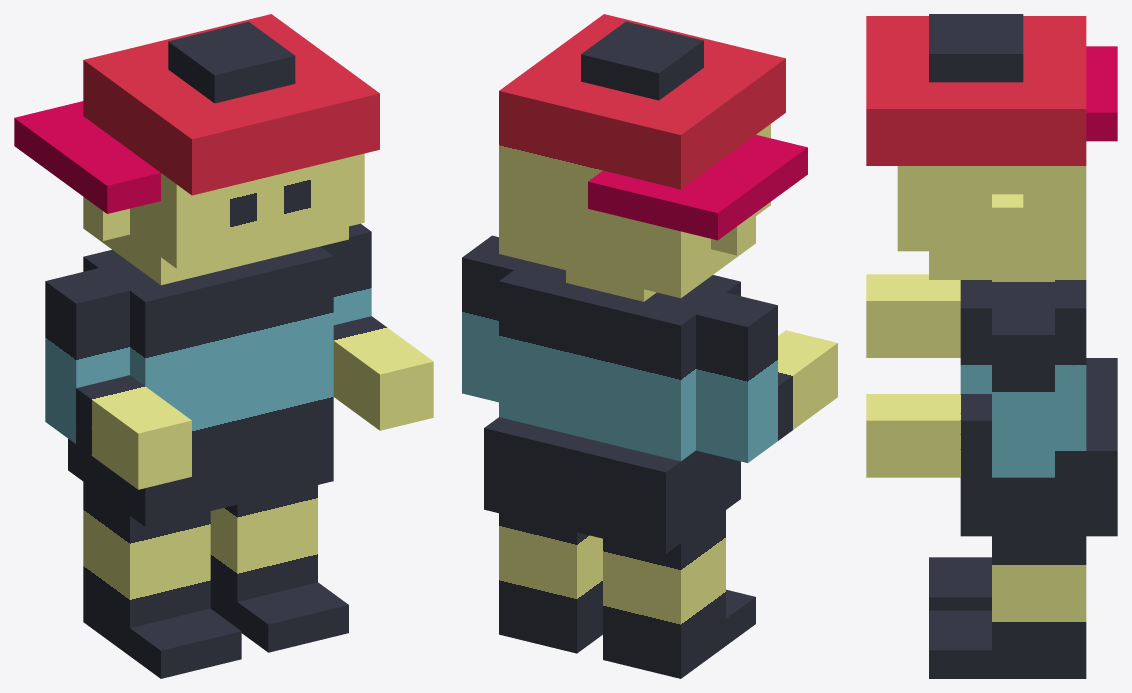
The model's file is Pizza_Man_Free_006B.dae.
3 views of the same model, side by side, from view 1: azimuth 30°, elevation 25°; view 2: azimuth 150°, elevation 25°; view 3: azimuth 270°, elevation 25° (orthographic). The views are drawn at different scales.
Parts seen in each view (by area): view 1: pizza_men_10; view 2: pizza_men_10; view 3: pizza_men_10.
Part boxes in pixels (<box>): pizza_men_10: <box>14,14,433,678</box>; pizza_men_10: <box>462,14,837,678</box>; pizza_men_10: <box>866,14,1117,678</box>.
Size of the model in its own units: 11 by 21 by 8.
